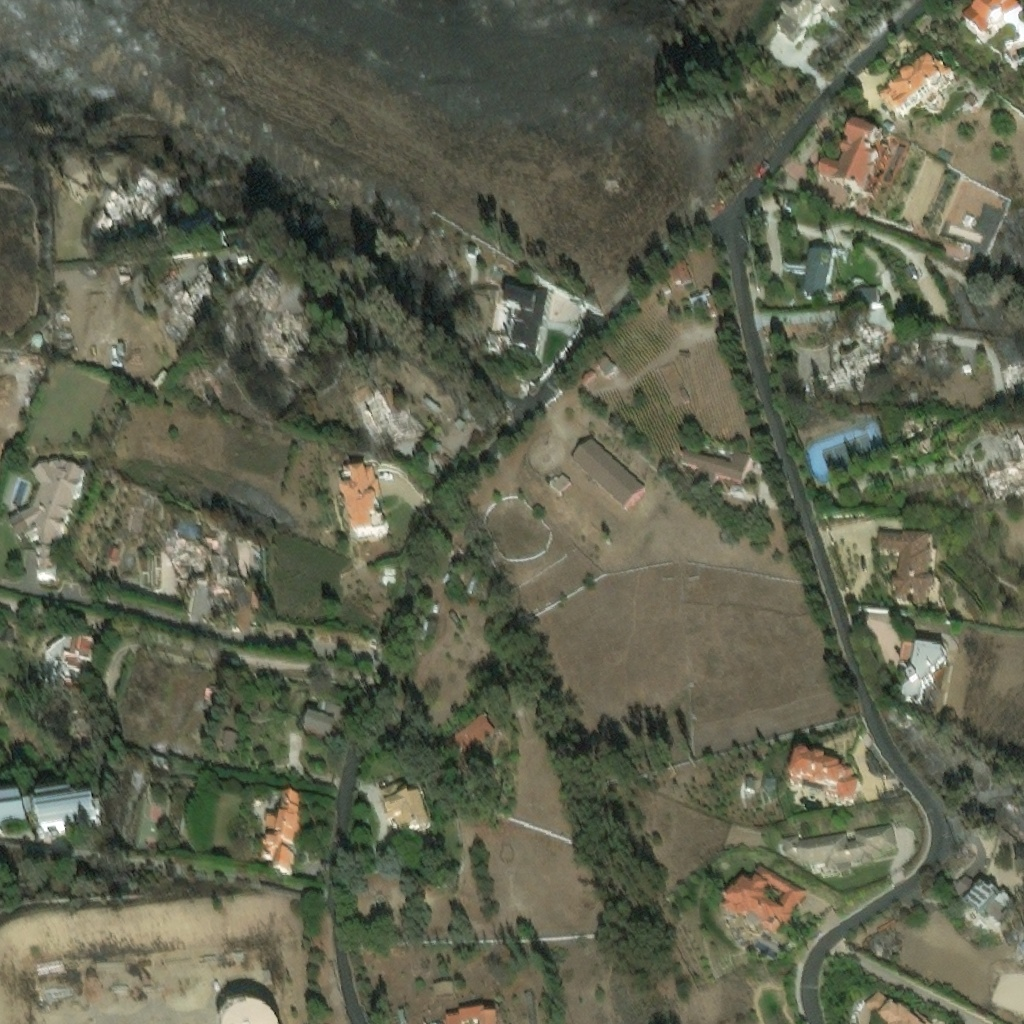0 no-damage: (6, 456, 83, 575), (721, 866, 808, 941), (350, 382, 428, 465), (816, 122, 901, 197), (782, 821, 898, 872), (570, 435, 645, 509), (881, 52, 953, 118), (878, 531, 938, 606), (789, 750, 861, 809), (256, 788, 301, 876), (341, 463, 391, 542), (378, 783, 434, 841), (35, 783, 97, 832), (440, 712, 498, 763), (899, 643, 947, 704), (774, 0, 833, 48), (505, 285, 549, 347), (682, 449, 753, 485), (58, 631, 97, 695), (961, 0, 1021, 36), (863, 987, 922, 1023), (799, 249, 835, 301), (217, 996, 280, 1023), (977, 894, 1016, 936), (960, 884, 1000, 924), (0, 790, 32, 828), (301, 712, 337, 742), (233, 534, 255, 576), (219, 231, 260, 253), (994, 826, 1023, 856), (446, 1009, 499, 1023), (185, 212, 216, 233), (593, 354, 615, 376), (954, 877, 975, 898), (549, 474, 571, 494), (670, 262, 689, 285), (853, 292, 878, 308), (220, 729, 236, 751), (578, 364, 595, 383), (150, 368, 167, 386), (433, 979, 453, 993), (424, 399, 442, 413), (765, 780, 777, 800), (460, 400, 474, 414), (203, 682, 214, 699), (249, 588, 259, 602), (746, 778, 756, 792), (397, 1008, 405, 1022), (454, 416, 464, 427), (31, 332, 41, 343), (152, 756, 163, 763)
3 destroyed: (87, 172, 157, 237), (167, 260, 236, 325), (816, 354, 886, 394), (983, 434, 1023, 498), (267, 311, 312, 360), (172, 535, 220, 574), (247, 281, 280, 311), (205, 572, 229, 608), (867, 378, 892, 404), (1006, 365, 1023, 397), (163, 174, 184, 192), (164, 319, 184, 337), (161, 273, 178, 291), (110, 340, 123, 355), (117, 262, 129, 278)
